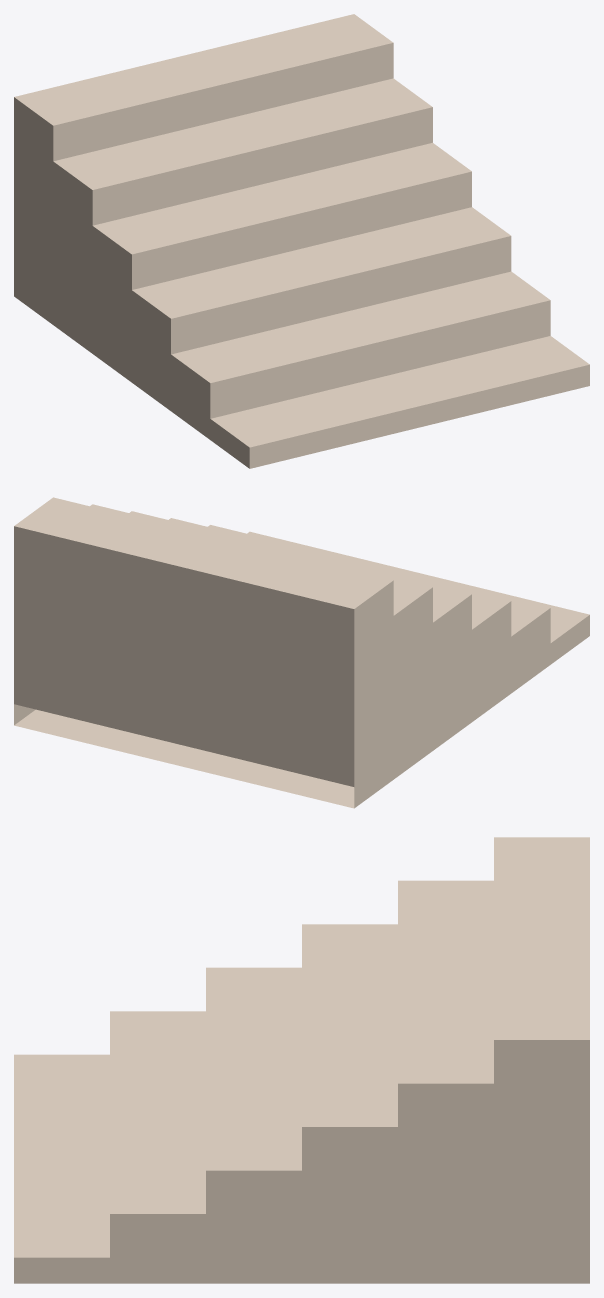
Rendered from Control-Roon-Stair-L.obj.
3 renders of one model, top to bottom at view 1: azimuth 30°, elevation 25°; view 2: azimuth 150°, elevation 25°; view 3: azimuth 270°, elevation 25°, orthographic. The views are drawn at different scales.
Visible parts, largest first — view 1: Control-Roon-Stair-L; view 2: Control-Roon-Stair-L; view 3: Control-Roon-Stair-L.
Boxes of the visible parts, bbox=[...] form: Control-Roon-Stair-L: bbox=[14, 14, 589, 468]; Control-Roon-Stair-L: bbox=[14, 497, 589, 808]; Control-Roon-Stair-L: bbox=[14, 837, 589, 1283].
Bounding box in the file's own units: 2.5 × 1.4 × 3.
